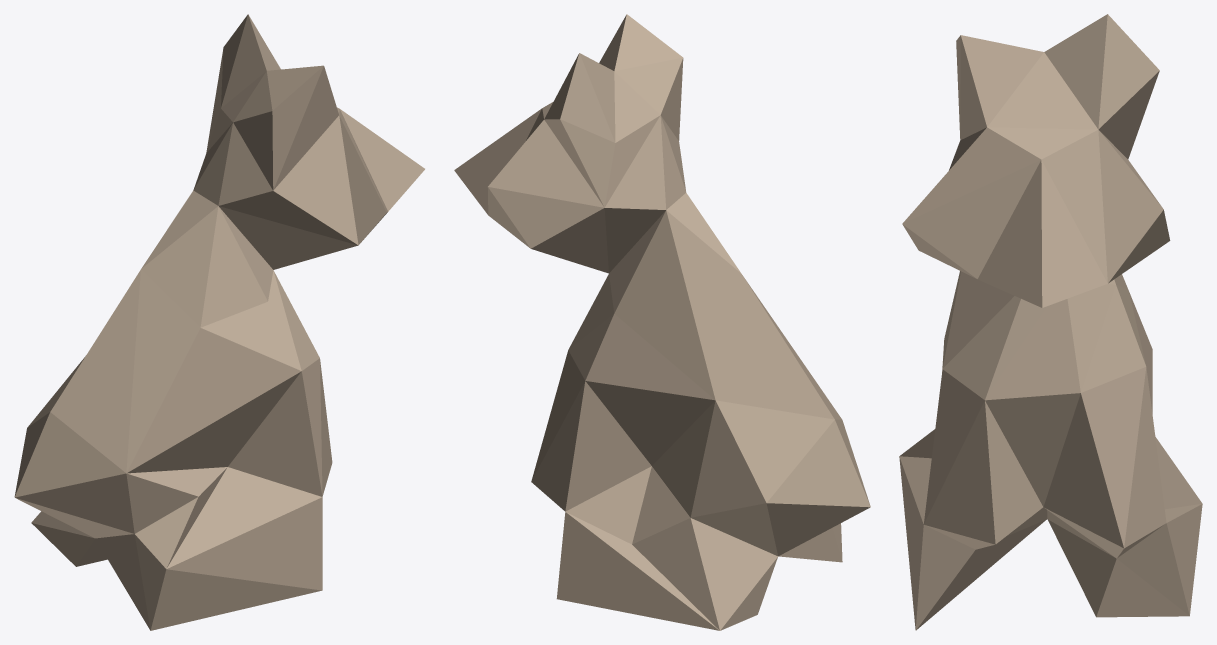
3 renders of one model, left to right at view 1: azimuth 30°, elevation 25°; view 2: azimuth 150°, elevation 25°; view 3: azimuth 270°, elevation 25°, orthographic. The views are drawn at different scales.
Parts seen in each view (by area): view 1: part0; view 2: part0; view 3: part0.
Boxes of the visible parts, x1,y1,x2,y2 form: part0: (14,14,424,630); part0: (454,14,870,630); part0: (899,14,1202,630).
Size of the model in its own units: 6.21 by 7.48 by 3.32.
